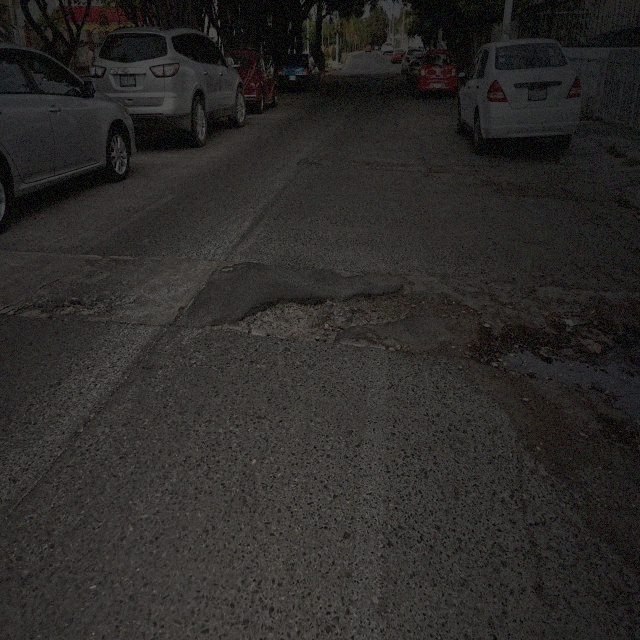pothole: (491, 309, 636, 431), (240, 281, 406, 355), (409, 286, 479, 326), (16, 297, 106, 317), (424, 160, 454, 177)
